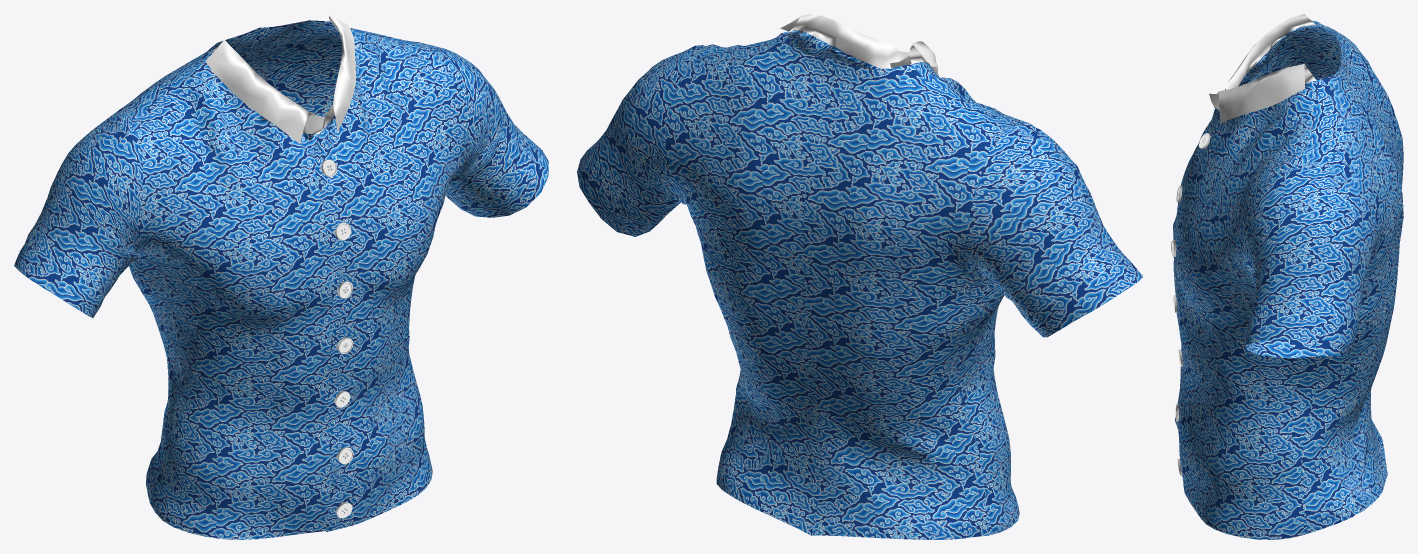
File: Baju Tanpa Kerah.fbx
The picture shows the model from 3 angles, left to right: view 1: azimuth 30°, elevation 25°; view 2: azimuth 150°, elevation 25°; view 3: azimuth 270°, elevation 25°; orthographic projection. The views are drawn at different scales.
Parts seen in each view (by area): view 1: Baju tanpa kerah; view 2: Baju tanpa kerah; view 3: Baju tanpa kerah.
Boxes of the visible parts, x1,y1,x2,y2 form: Baju tanpa kerah: (14,14,548,539); Baju tanpa kerah: (577,14,1142,539); Baju tanpa kerah: (1171,14,1403,539).
Size of the model in its own units: 6765 by 5725 by 2706.
